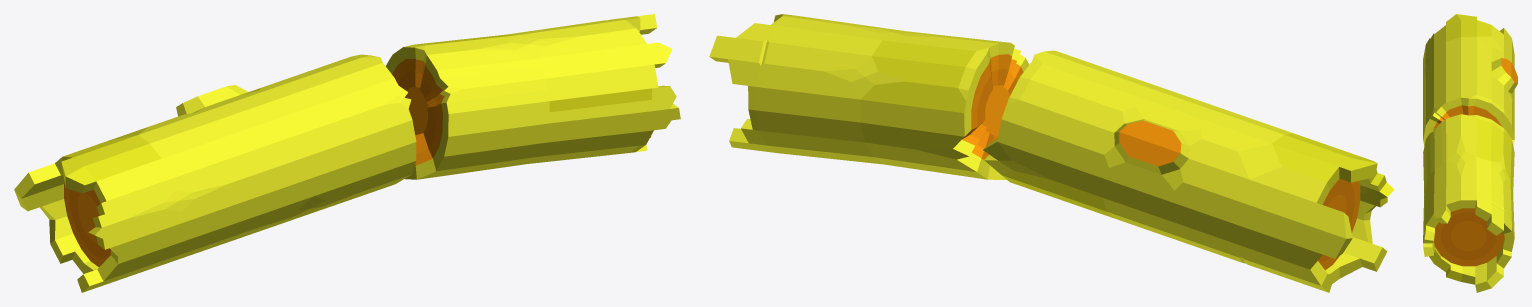
The model's file is Broken log_24.fbx.
3 views of the same model, side by side, from view 1: azimuth 30°, elevation 25°; view 2: azimuth 150°, elevation 25°; view 3: azimuth 270°, elevation 25° (orthographic). The views are drawn at different scales.
Parts seen in each view (by area): view 1: Circle.306, Circle.303; view 2: Circle.306, Circle.303; view 3: Circle.303, Circle.306.
Part boxes in pixels (left/top/right/bottom): Circle.306: left=14, top=54, right=416, bottom=292; Circle.303: left=386, top=14, right=680, bottom=179; Circle.306: left=983, top=50, right=1394, bottom=292; Circle.303: left=709, top=14, right=1029, bottom=179; Circle.303: left=1423, top=114, right=1514, bottom=292; Circle.306: left=1423, top=14, right=1517, bottom=146.
Bounding box in the file's own units: 111 × 25.83 × 21.48.
